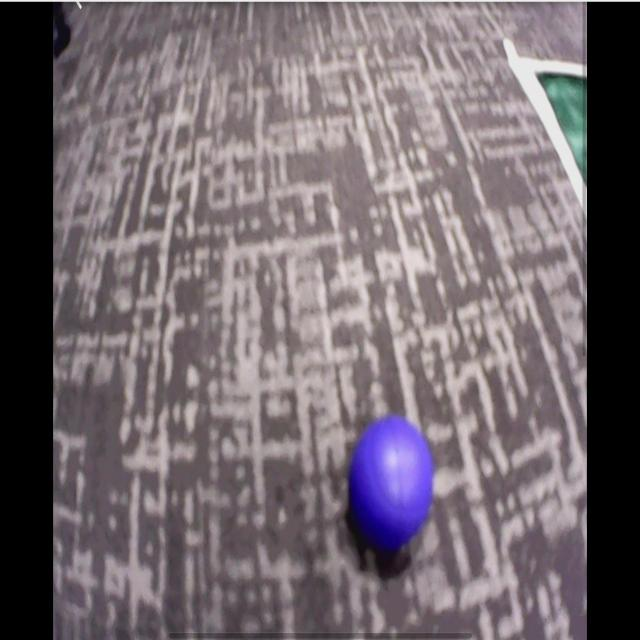ball: (353, 419, 433, 550)
